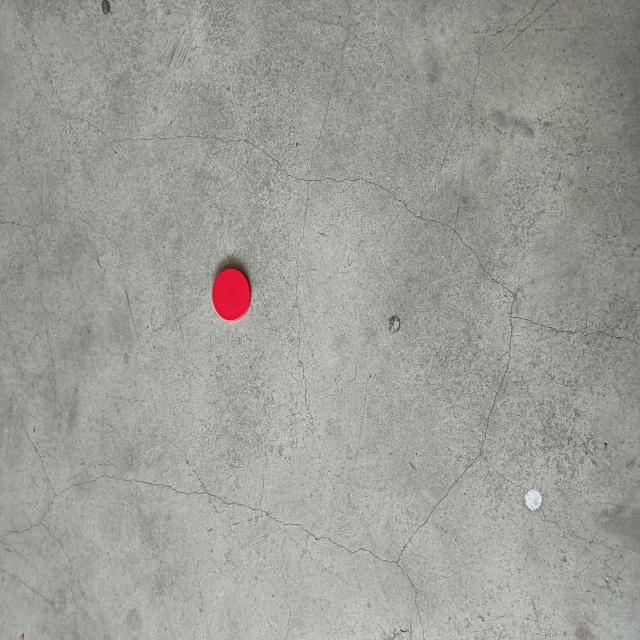chip: (210, 266, 252, 324)
